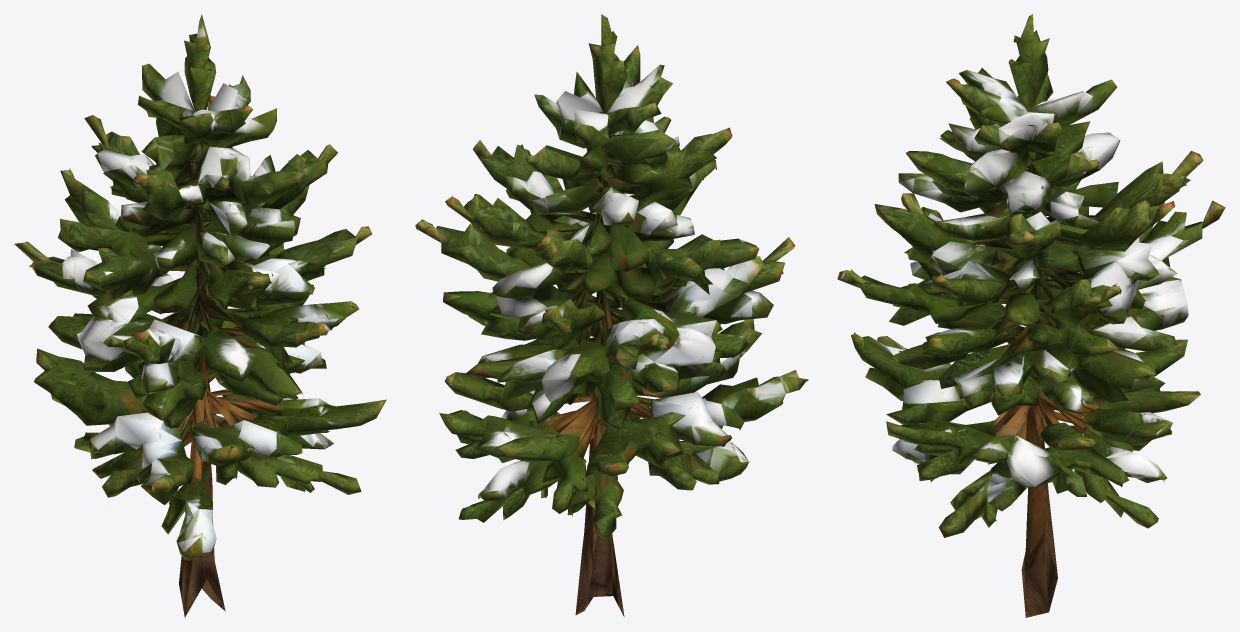
Rendered from spruce_1_lod1.glb.
3 views of the same model, side by side, from view 1: azimuth 30°, elevation 25°; view 2: azimuth 150°, elevation 25°; view 3: azimuth 270°, elevation 25° (orthographic).
Visible parts, largest first — view 1: Spruce_1_LOD1; view 2: Spruce_1_LOD1; view 3: Spruce_1_LOD1.
Boxes of the visible parts, x1,y1,x2,y2 form: Spruce_1_LOD1: [14, 14, 386, 617]; Spruce_1_LOD1: [415, 14, 808, 616]; Spruce_1_LOD1: [837, 14, 1225, 617].
Size of the model in its own units: 5.06 by 10.5 by 6.22.
Materials: 1 (1 with a texture image).
